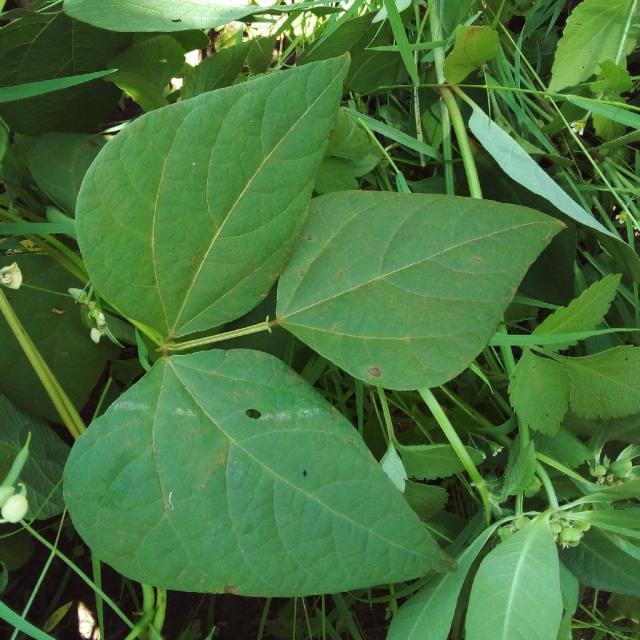embun tepung: (95, 390, 207, 435), (260, 399, 337, 424)
hawar: (230, 409, 355, 497), (359, 350, 390, 393)
sehat: (126, 145, 271, 300)
